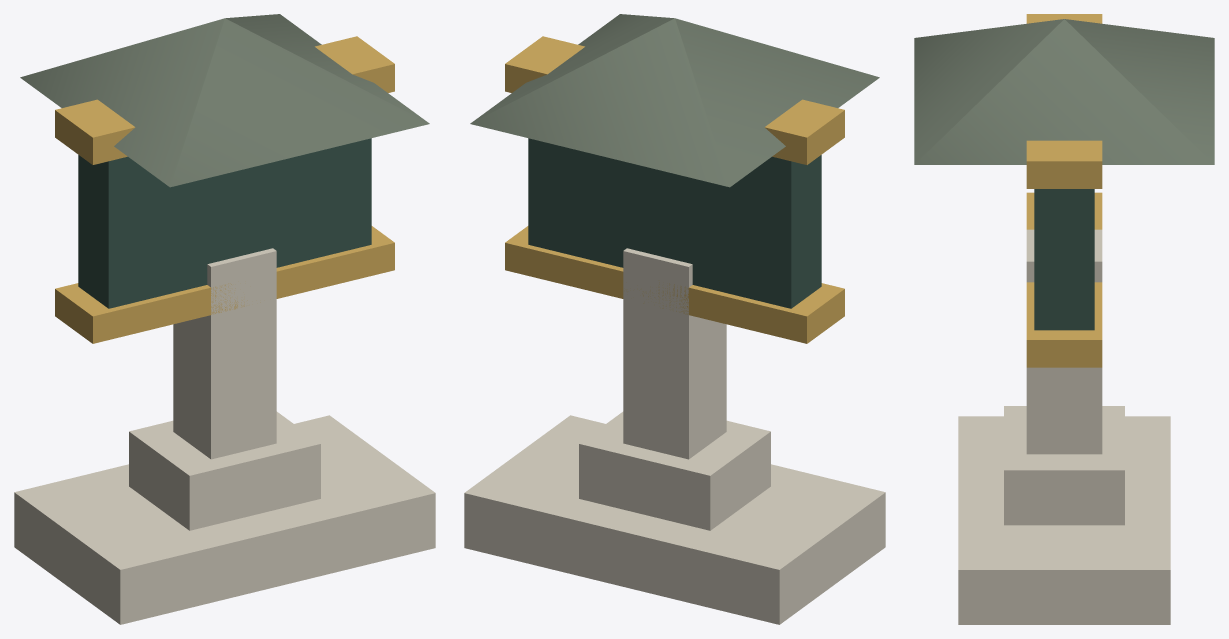
3 renders of one model, left to right at view 1: azimuth 30°, elevation 25°; view 2: azimuth 150°, elevation 25°; view 3: azimuth 270°, elevation 25°, orthographic.
Bounding box in the file's own units: 0.024 × 0.0385 × 0.0198.
